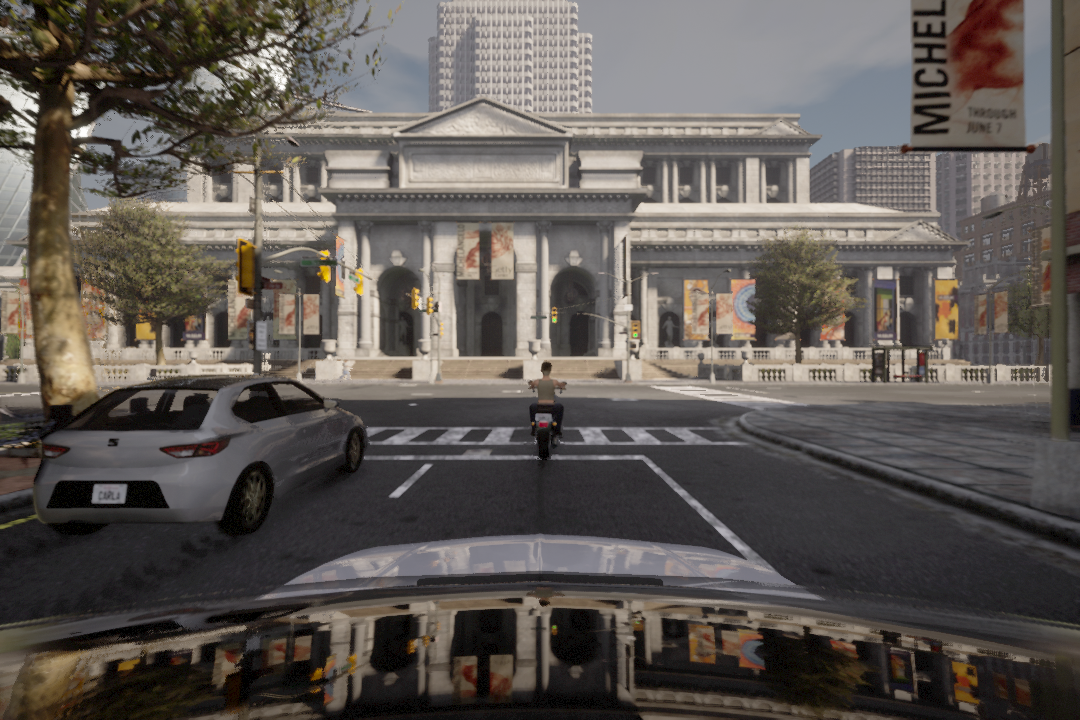TrafficLight: (632, 320, 642, 342), (549, 305, 558, 324)
walkside: (327, 417, 764, 457)
